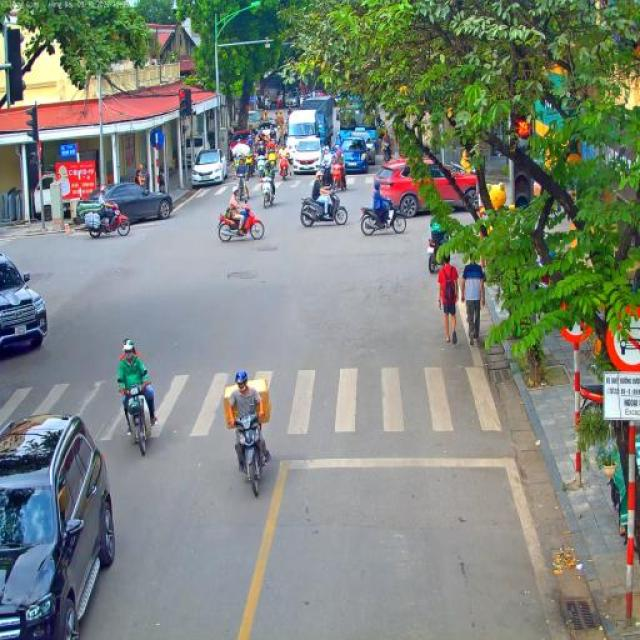car: (0, 412, 116, 640), (373, 158, 481, 218), (0, 252, 48, 352), (78, 183, 174, 225), (191, 149, 229, 186), (288, 136, 322, 176), (341, 136, 369, 174), (348, 130, 378, 165), (228, 130, 253, 150)
motorcycle: (116, 378, 150, 457), (234, 411, 265, 497), (299, 186, 349, 229), (216, 202, 266, 242), (359, 199, 408, 237), (84, 204, 130, 238), (426, 230, 450, 274), (234, 174, 250, 207), (260, 177, 276, 208), (332, 162, 346, 192), (318, 161, 332, 189), (278, 156, 290, 182), (256, 154, 266, 178), (245, 153, 255, 177), (266, 159, 276, 179), (381, 142, 390, 164), (265, 138, 276, 152), (254, 142, 264, 156), (232, 157, 238, 177), (333, 144, 342, 155), (276, 127, 282, 143), (288, 111, 292, 121)
truck: (286, 97, 334, 151), (334, 105, 377, 137), (248, 110, 262, 130)
